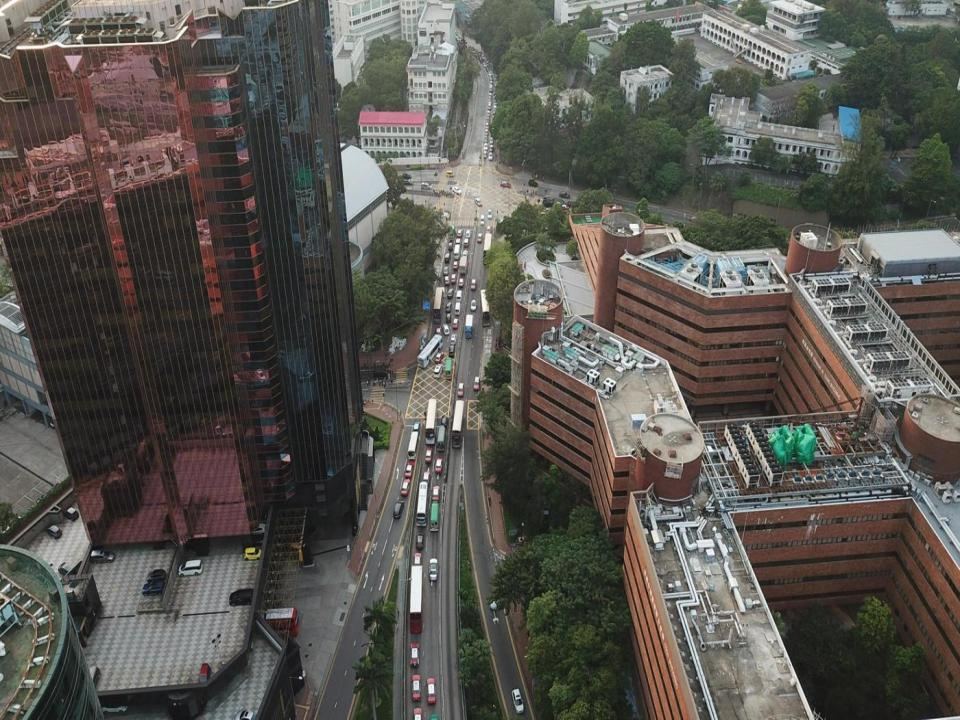bus: (235, 606, 300, 638), (410, 565, 423, 633), (417, 334, 443, 368), (452, 400, 464, 449), (416, 481, 429, 526), (425, 398, 437, 444), (480, 290, 491, 327), (433, 287, 443, 322), (408, 431, 419, 459), (483, 232, 492, 265), (430, 500, 439, 532), (437, 426, 445, 450), (445, 356, 452, 380), (453, 244, 460, 259), (449, 224, 454, 240)
car: (100, 697, 128, 714), (184, 536, 210, 549), (244, 521, 266, 536), (44, 523, 62, 539), (58, 562, 76, 578), (234, 709, 262, 719), (411, 674, 421, 701), (247, 534, 267, 547), (244, 547, 262, 561), (410, 642, 420, 667), (50, 411, 64, 428), (147, 568, 165, 581), (427, 678, 436, 704), (64, 506, 79, 521), (429, 558, 438, 580), (404, 461, 414, 478), (432, 485, 440, 503), (401, 479, 410, 495), (489, 592, 497, 609), (426, 448, 434, 463), (414, 552, 421, 569), (434, 351, 443, 364), (473, 377, 481, 390), (422, 472, 429, 486), (414, 707, 422, 719), (436, 457, 442, 473), (688, 215, 700, 223), (559, 191, 570, 199), (458, 383, 464, 396), (442, 324, 449, 335), (543, 207, 554, 214), (559, 204, 569, 211), (560, 201, 570, 208), (447, 288, 453, 299), (470, 278, 476, 289), (500, 181, 511, 187), (452, 187, 461, 194), (436, 325, 441, 337), (470, 300, 476, 310), (452, 319, 458, 329), (446, 312, 452, 322), (451, 273, 457, 283), (475, 198, 482, 206), (458, 278, 464, 287), (477, 233, 483, 242), (462, 251, 468, 260), (444, 276, 449, 286), (445, 304, 451, 312), (453, 261, 458, 270), (465, 230, 470, 238), (488, 152, 493, 160), (443, 267, 448, 274), (457, 229, 462, 236), (484, 142, 488, 150), (490, 144, 493, 152)
truck: (465, 314, 472, 338), (459, 256, 467, 274)
van: (229, 587, 254, 605), (178, 560, 202, 576), (142, 580, 164, 596), (87, 665, 100, 691), (511, 688, 524, 714), (91, 549, 115, 563), (198, 664, 211, 686), (393, 500, 404, 519), (416, 532, 424, 550), (433, 364, 443, 378), (412, 422, 420, 435), (440, 416, 447, 429), (456, 289, 463, 302), (454, 302, 460, 316), (421, 182, 431, 190), (402, 179, 413, 186), (449, 346, 454, 358), (450, 334, 456, 344), (444, 252, 450, 262), (456, 238, 461, 248), (464, 238, 469, 248), (485, 226, 491, 234), (446, 170, 454, 176), (480, 214, 484, 225), (488, 209, 492, 218), (402, 174, 411, 178), (448, 242, 452, 250), (484, 151, 486, 158)
